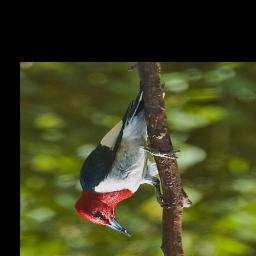Woodpecker: (73, 84, 179, 236)
